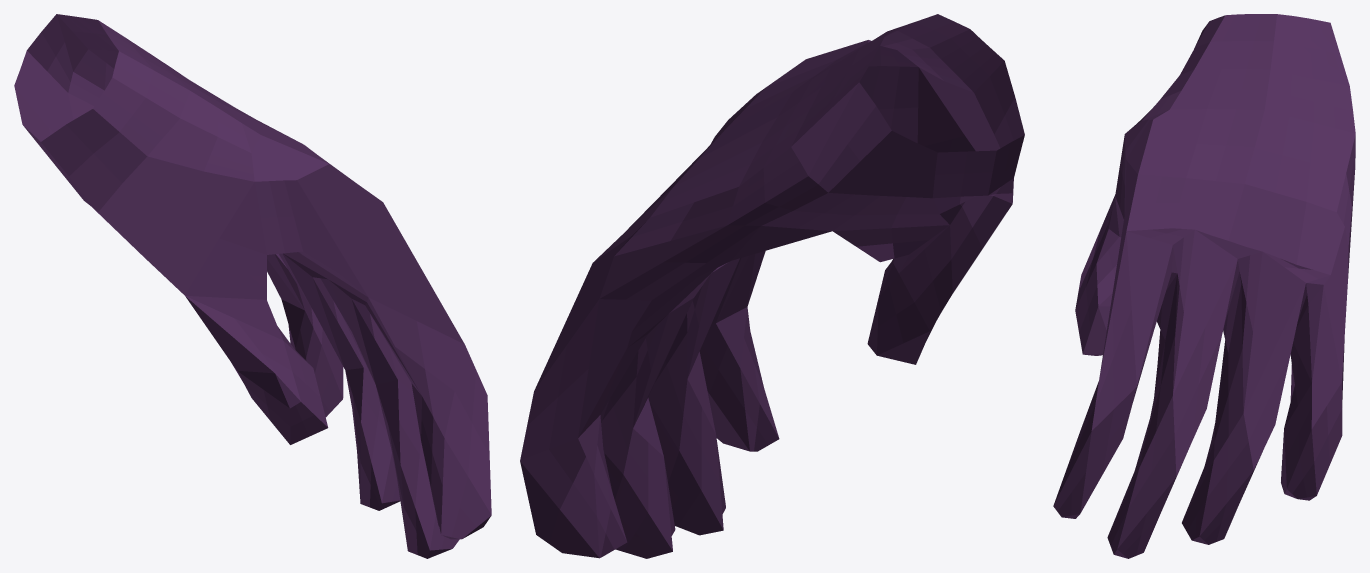
File: BalenHand.fbx
3 views of the same model, side by side, from view 1: azimuth 30°, elevation 25°; view 2: azimuth 150°, elevation 25°; view 3: azimuth 270°, elevation 25° (orthographic). The views are drawn at different scales.
Parts seen in each view (by area): view 1: Hand; view 2: Hand; view 3: Hand.
Boxes of the visible parts, x1=… form: Hand: x1=14, y1=14, x2=491, y2=558; Hand: x1=520, y1=14, x2=1024, y2=558; Hand: x1=1053, y1=14, x2=1355, y2=558.
Bounding box in the file's own units: 37.97 × 52.22 × 32.39.
Materials: 1 (1 with a texture image).
